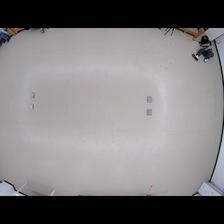fall: (191, 34, 215, 63)
